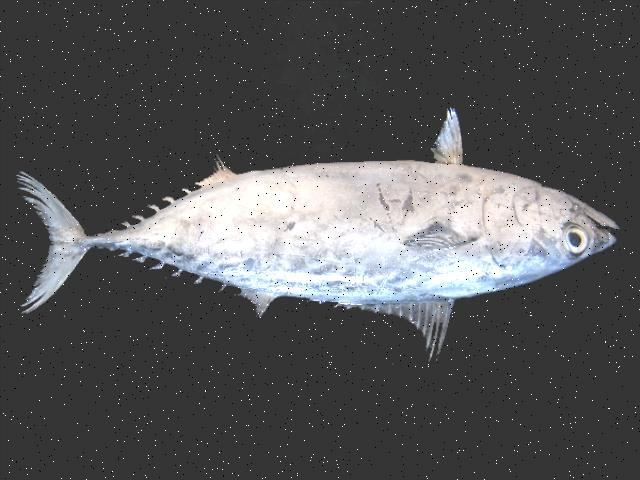Mulut: (572, 191, 626, 268)
Sirip Anal: (184, 140, 240, 204)
Sirip Dada: (388, 220, 480, 256)
Sirip Ekor: (4, 146, 110, 328)
Sirip Perut: (415, 98, 471, 174)
Sirip Punggung: (217, 280, 467, 370)
